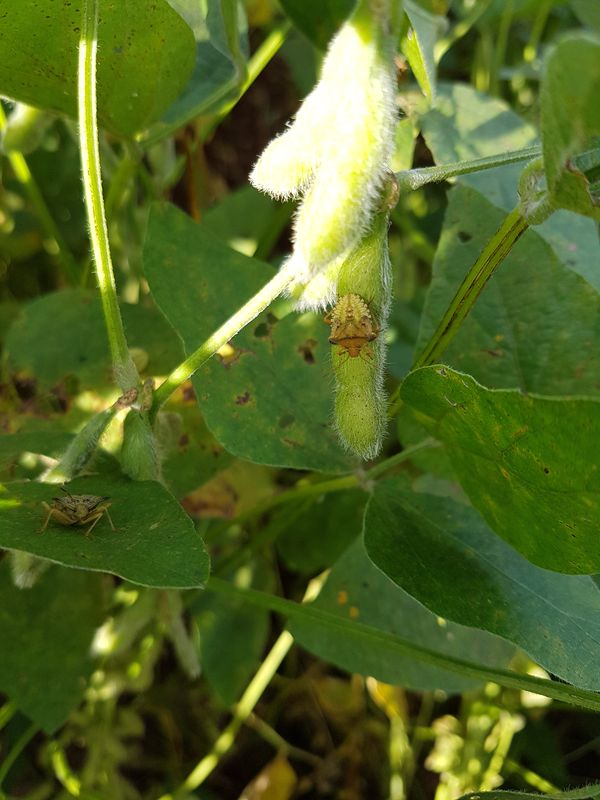Euschistus_heros_ninfa: (29, 477, 127, 547), (317, 288, 390, 381)
